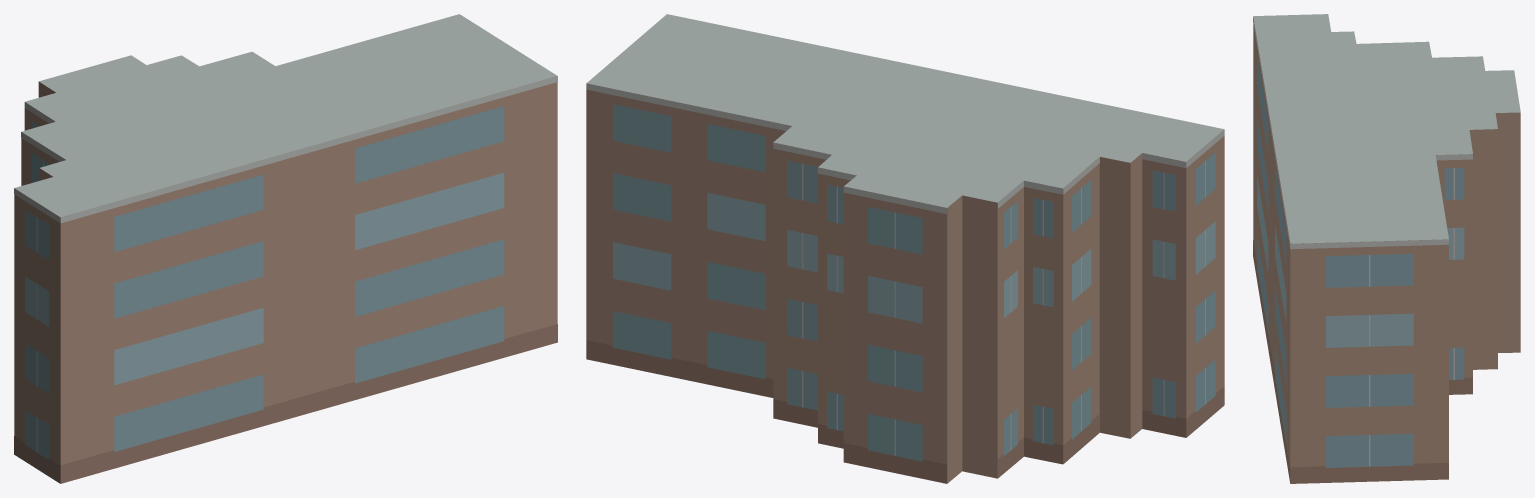
File: survey-upis-32945255.glb
3 renders of one model, left to right at view 1: azimuth 30°, elevation 25°; view 2: azimuth 150°, elevation 25°; view 3: azimuth 270°, elevation 25°, orthographic. The views are drawn at different scales.
Parts seen in each view (by area): view 1: survey-upis-32945255.tmp; view 2: survey-upis-32945255.tmp; view 3: survey-upis-32945255.tmp.
Part boxes in pixels (x1=…): survey-upis-32945255.tmp: x1=14, y1=14, x2=557, y2=483; survey-upis-32945255.tmp: x1=586, y1=14, x2=1224, y2=483; survey-upis-32945255.tmp: x1=1253, y1=14, x2=1520, y2=483.
Bounding box in the file's own units: 22.17 × 10.8 × 10.92.
